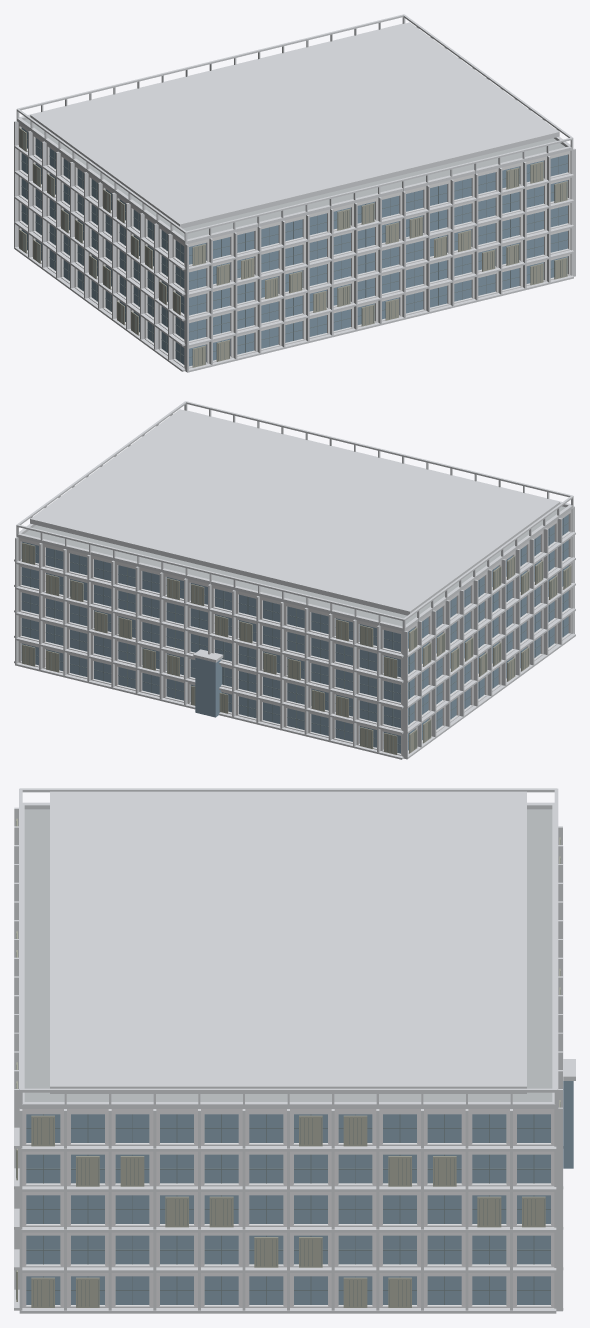
File: hospital_opd.glb
3 renders of one model, top to bottom at view 1: azimuth 30°, elevation 25°; view 2: azimuth 150°, elevation 25°; view 3: azimuth 270°, elevation 25°, orthographic. The views are drawn at different scales.
Visible parts, largest first — view 1: trim, glass, wall, screen, metal, roof; view 2: trim, glass, wall, screen, metal, roof; view 3: trim, glass, wall, roof, screen, metal.
Part boxes in pixels (box(x1,y1,x2,y2)): trim: box(14, 14, 575, 372); glass: box(21, 128, 567, 366); wall: box(18, 123, 570, 367); screen: box(19, 127, 567, 367); metal: box(20, 130, 567, 366); roof: box(24, 119, 565, 239); trim: box(14, 401, 575, 759); glass: box(21, 514, 568, 753); wall: box(18, 509, 571, 755); screen: box(22, 542, 571, 754); metal: box(21, 518, 568, 753); roof: box(24, 506, 565, 626); trim: box(14, 788, 575, 1313); glass: box(26, 1081, 573, 1304); wall: box(22, 1109, 554, 1307); roof: box(24, 809, 552, 1101); screen: box(16, 818, 560, 1307); metal: box(16, 821, 560, 1306).
Size of the model in its own units: 62.2 by 21 by 48.3.
Materials: 6 (1 with a texture image).
